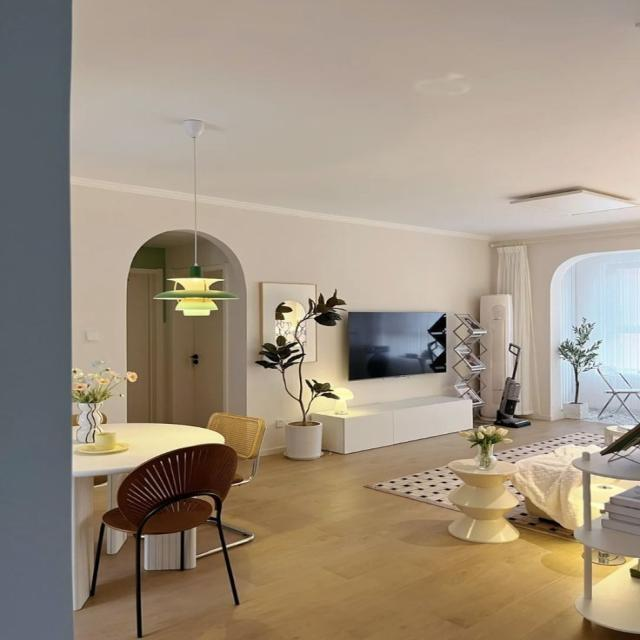door: (126, 245, 232, 428)
obstacle: (70, 421, 226, 611), (104, 444, 236, 636), (570, 448, 640, 634), (191, 412, 266, 558), (316, 397, 475, 454), (452, 460, 522, 547)
